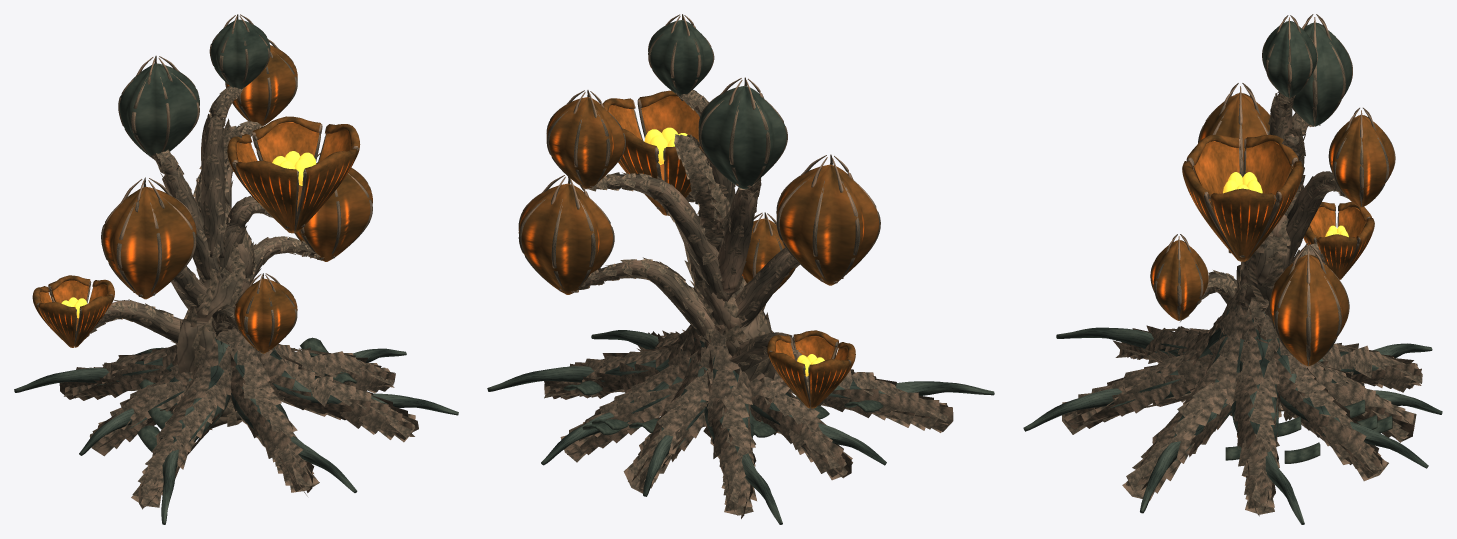
Rendered from pods.glb.
The picture shows the model from 3 angles, left to right: view 1: azimuth 30°, elevation 25°; view 2: azimuth 150°, elevation 25°; view 3: azimuth 270°, elevation 25°; orthographic projection. The views are drawn at different scales.
Visible parts, largest first — view 1: Pods_holdfast_ridges, Pods_crooked_branch_network, Pods_bark_scales, Pods_0_ripe_waxy_shell, Pods_holdfast_body, Pods_1_open_waxy_shell, Pods_fruit_seams_and_calyces, Pods_3_closed_waxy_shell, Pods_2_ripe_waxy_shell, Pods_6_ripe_waxy_shell, Pods_4_closed_waxy_shell, Pods_5_open_waxy_shell (+5 smaller); view 2: Pods_holdfast_ridges, Pods_crooked_branch_network, Pods_bark_scales, Pods_0_ripe_waxy_shell, Pods_holdfast_body, Pods_fruit_seams_and_calyces, Pods_2_ripe_waxy_shell, Pods_3_closed_waxy_shell, Pods_7_ripe_waxy_shell, Pods_4_closed_waxy_shell, Pods_5_open_waxy_shell, Pods_1_open_waxy_shell (+5 smaller); view 3: Pods_holdfast_ridges, Pods_holdfast_body, Pods_fruit_seams_and_calyces, Pods_1_open_waxy_shell, Pods_2_ripe_waxy_shell, Pods_crooked_branch_network, Pods_bark_scales, Pods_7_ripe_waxy_shell, Pods_1_inner_valves, Pods_3_closed_waxy_shell, Pods_6_ripe_waxy_shell, Pods_4_closed_waxy_shell (+5 smaller).
Boxes of the visible parts, x1,y1,x2,y2 form: Pods_holdfast_ridges: (59,327,418,509); Pods_crooked_branch_network: (96,92,319,429); Pods_bark_scales: (76,85,324,429); Pods_0_ripe_waxy_shell: (103,187,196,299); Pods_holdfast_body: (14,338,458,524); Pods_1_open_waxy_shell: (227,116,360,233); Pods_fruit_seams_and_calyces: (36,14,372,351); Pods_3_closed_waxy_shell: (119,63,199,157); Pods_2_ripe_waxy_shell: (295,162,372,261); Pods_6_ripe_waxy_shell: (235,278,297,353); Pods_4_closed_waxy_shell: (210,19,270,89); Pods_5_open_waxy_shell: (32,275,114,347); Pods_holdfast_ridges: (544,324,953,518); Pods_crooked_branch_network: (578,95,808,382); Pods_bark_scales: (575,89,808,437); Pods_0_ripe_waxy_shell: (776,164,879,285); Pods_holdfast_body: (487,330,994,524); Pods_fruit_seams_and_calyces: (518,14,880,406); Pods_2_ripe_waxy_shell: (518,183,613,294); Pods_3_closed_waxy_shell: (698,86,786,189); Pods_7_ripe_waxy_shell: (546,97,624,189); Pods_4_closed_waxy_shell: (648,20,713,95); Pods_5_open_waxy_shell: (767,330,855,408); Pods_1_open_waxy_shell: (602,90,703,215); Pods_holdfast_ridges: (1062,287,1422,516); Pods_holdfast_body: (1023,304,1442,524); Pods_fruit_seams_and_calyces: (1150,14,1395,365); Pods_1_open_waxy_shell: (1182,134,1303,261); Pods_2_ripe_waxy_shell: (1270,254,1348,366); Pods_crooked_branch_network: (1202,92,1340,411); Pods_bark_scales: (1180,91,1355,420); Pods_7_ripe_waxy_shell: (1330,115,1394,207); Pods_1_inner_valves: (1194,141,1291,203); Pods_3_closed_waxy_shell: (1292,22,1352,126); Pods_6_ripe_waxy_shell: (1151,240,1208,320); Pods_4_closed_waxy_shell: (1263,21,1317,97).
Size of the model in its own units: 4.2 by 4.53 by 3.95.
Materials: 8 (7 with a texture image).
